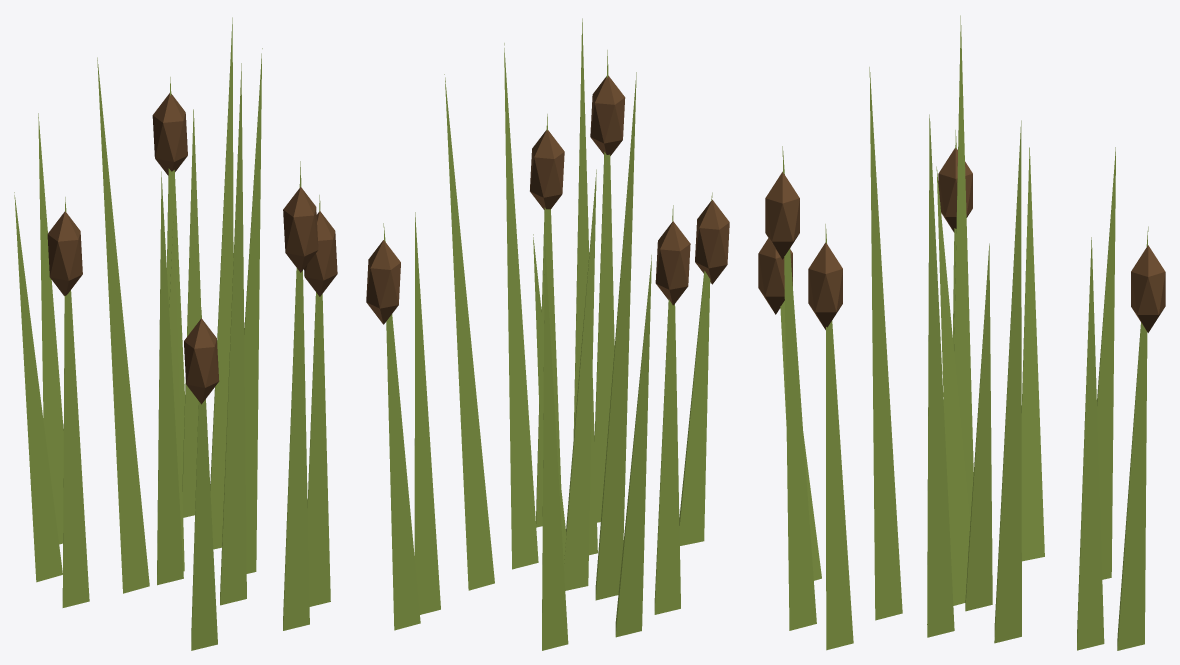
Rendered from forest_reeds.glb.
3 renders of one model, left to right at view 1: azimuth 30°, elevation 25°; view 2: azimuth 150°, elevation 25°; view 3: azimuth 270°, elevation 25°, orthographic. The views are drawn at different scales.
Parts seen in each view (by area): view 1: forest_reeds; view 2: forest_reeds; view 3: forest_reeds.
Part boxes in pixels (bbox=[...]): forest_reeds: bbox=[14, 17, 337, 650]; forest_reeds: bbox=[366, 18, 729, 650]; forest_reeds: bbox=[758, 15, 1165, 650].
Size of the model in its own units: 0.6677 by 1.5 by 1.
